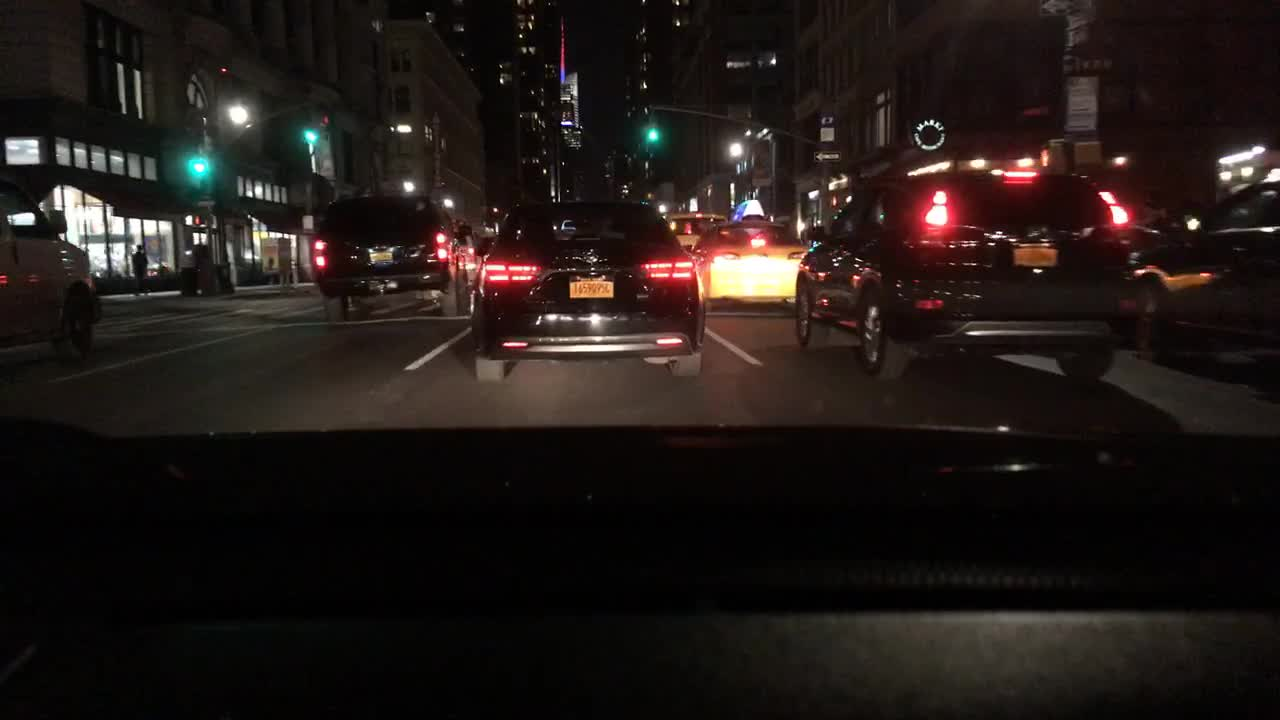car: (794, 166, 1119, 381), (471, 198, 702, 381), (1113, 180, 1279, 357), (307, 189, 474, 320), (0, 172, 95, 359), (691, 198, 808, 311), (660, 196, 726, 255), (462, 233, 501, 283), (448, 224, 485, 262)
person: (128, 240, 149, 299)
traffic light: (189, 149, 203, 184), (303, 116, 315, 144), (321, 109, 329, 149), (644, 114, 656, 140), (189, 214, 205, 228), (826, 194, 838, 212), (840, 191, 852, 208), (205, 216, 217, 231)
traffic sign: (1063, 75, 1098, 133), (189, 194, 216, 207), (815, 151, 841, 161)
